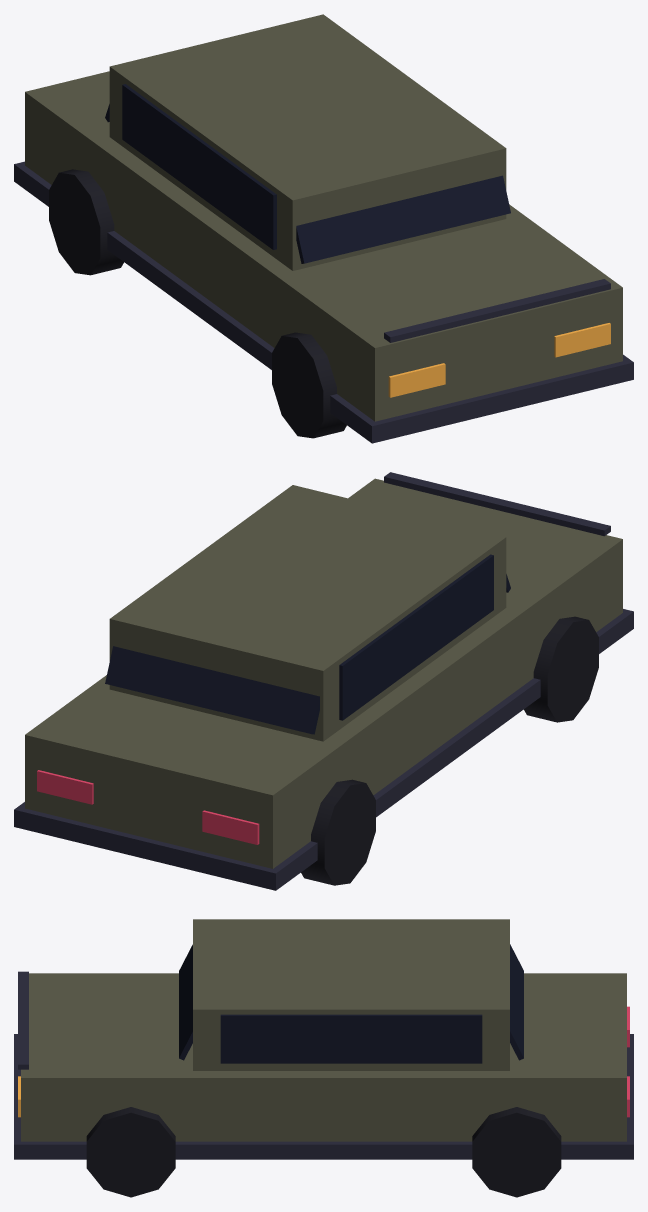
File: prop_car_block.glb
The picture shows the model from 3 angles, top to bottom: view 1: azimuth 30°, elevation 25°; view 2: azimuth 150°, elevation 25°; view 3: azimuth 270°, elevation 25°; orthographic projection. The views are drawn at different scales.
Parts seen in each view (by area): view 1: prop_car_block; view 2: prop_car_block; view 3: prop_car_block.
Boxes of the visible parts, x1=… form: prop_car_block: x1=14, y1=14, x2=633, y2=443; prop_car_block: x1=14, y1=472, x2=633, y2=890; prop_car_block: x1=14, y1=919, x2=633, y2=1197.
Size of the model in its own units: 2 by 1.4 by 4.5.
